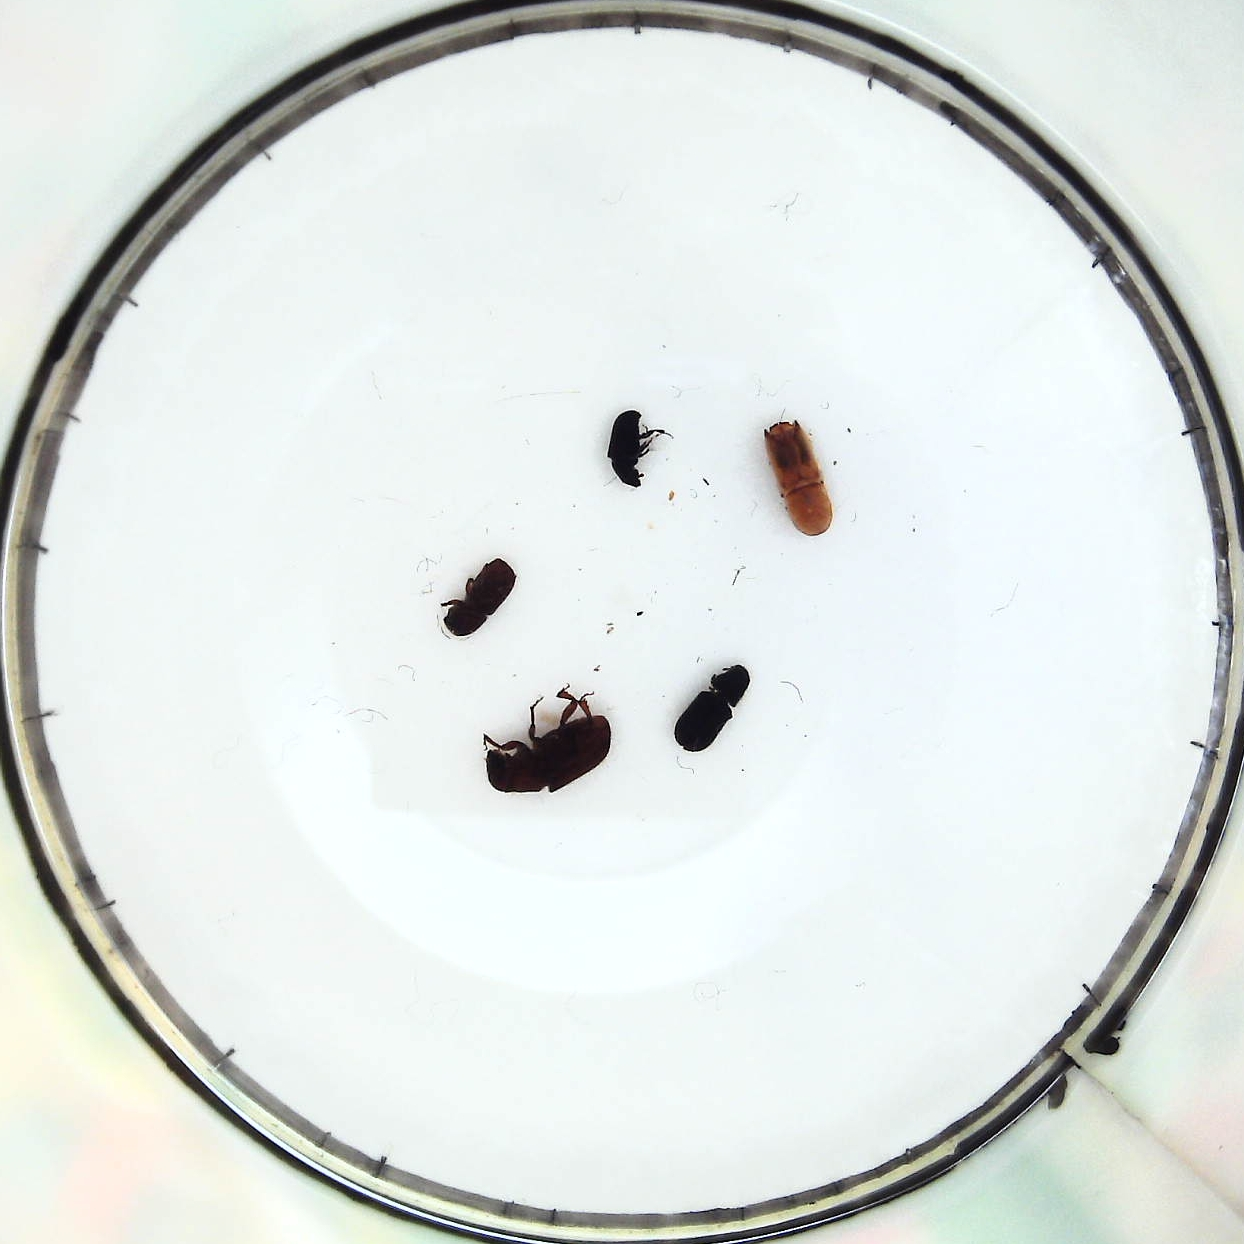Boerner: (756, 418, 841, 543)
Leconte: (481, 713, 609, 793)
Linnaeus: (442, 557, 519, 637)
armandi: (672, 663, 753, 755)
coleoptera: (604, 406, 657, 493)
